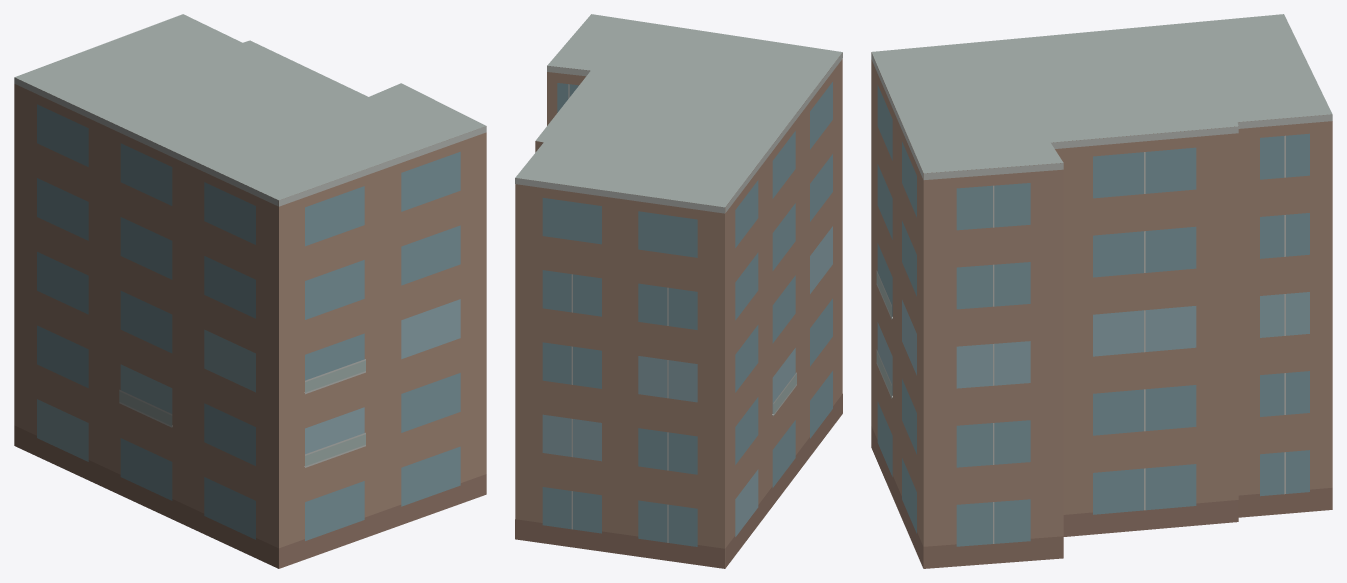
Rendered from survey-upis-32932026.glb.
3 views of the same model, side by side, from view 1: azimuth 30°, elevation 25°; view 2: azimuth 150°, elevation 25°; view 3: azimuth 270°, elevation 25° (orthographic). The views are drawn at different scales.
Visible parts, largest first — view 1: survey-upis-32932026.tmp; view 2: survey-upis-32932026.tmp; view 3: survey-upis-32932026.tmp.
Part boxes in pixels (box(x1,y1,x2,y2)): survey-upis-32932026.tmp: box(14, 14, 486, 568); survey-upis-32932026.tmp: box(515, 14, 842, 568); survey-upis-32932026.tmp: box(871, 14, 1332, 568).
Size of the model in its own units: 12.22 by 14.13 by 14.94.
